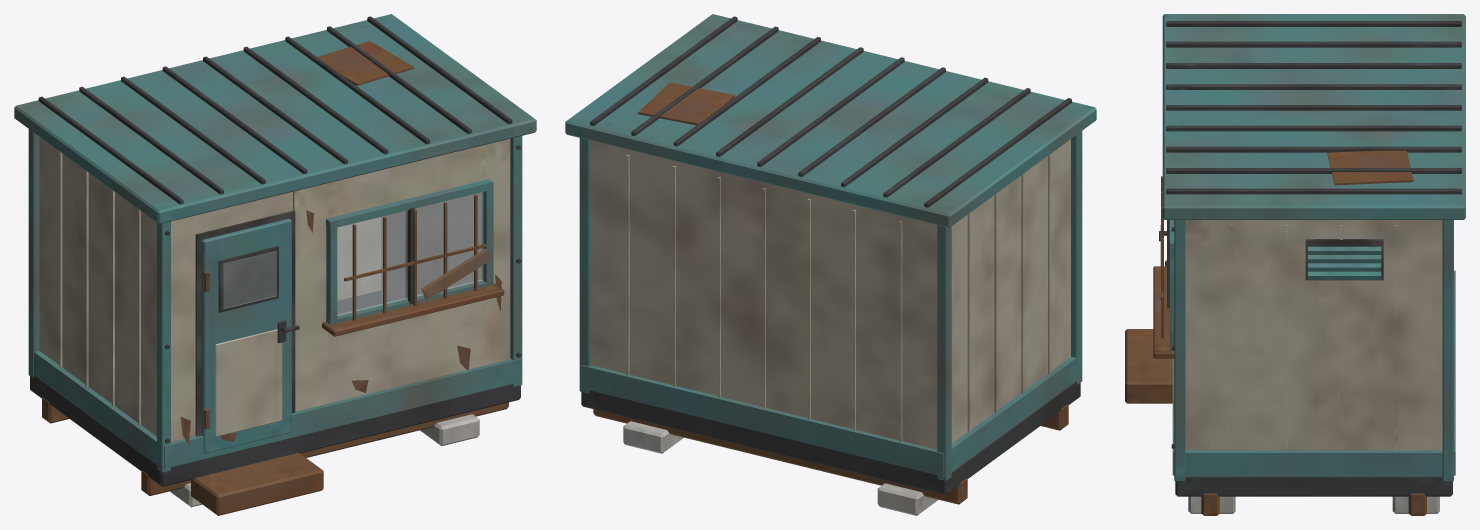
File: CS10_site_portable_cabin.glb
The picture shows the model from 3 angles, left to right: view 1: azimuth 30°, elevation 25°; view 2: azimuth 150°, elevation 25°; view 3: azimuth 270°, elevation 25°; orthographic projection. The views are drawn at different scales.
Visible parts, largest first — view 1: Concrete support; view 2: Concrete support; view 3: Concrete support.
Part boxes in pixels (x1=…): Concrete support: x1=14, y1=14, x2=536, y2=515; Concrete support: x1=565, y1=14, x2=1096, y2=515; Concrete support: x1=1125, y1=14, x2=1465, y2=515.
Bounding box in the file's own units: 3 × 2.43 × 2.23.
8 materials, 7 textured.
